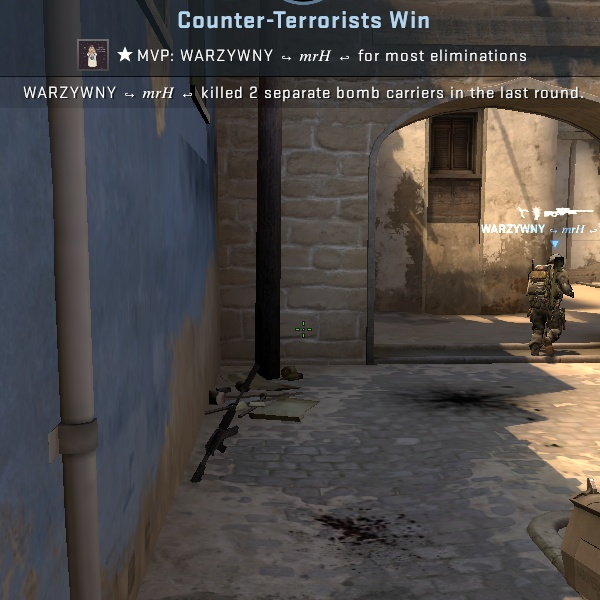ct_body: (514, 247, 581, 357)
ct_head: (547, 251, 569, 274)
